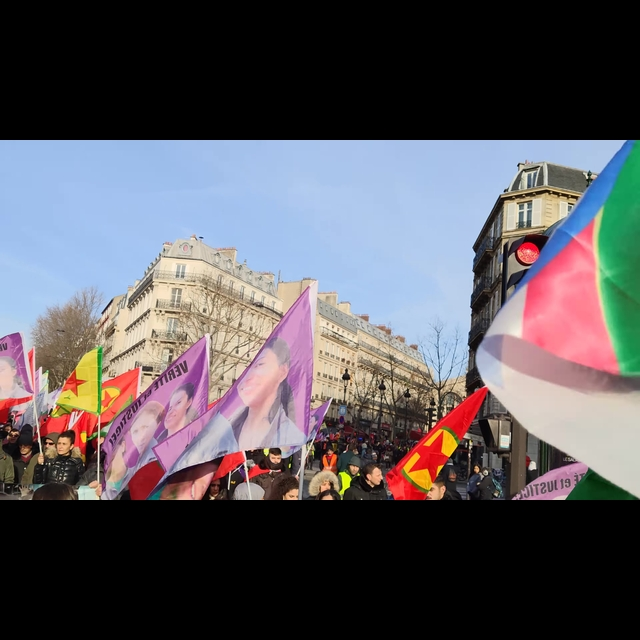PKK: (392, 375, 493, 500), (97, 376, 123, 410)
YPG: (53, 356, 99, 405)
